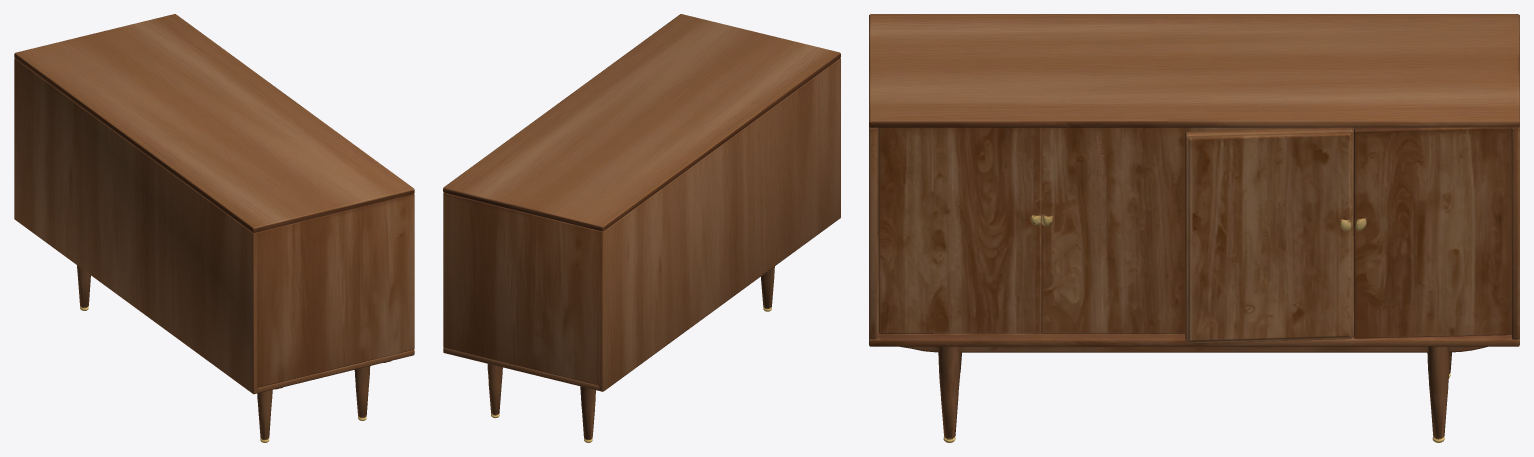
The model's file is low-cabinet.glb.
3 renders of one model, left to right at view 1: azimuth 30°, elevation 25°; view 2: azimuth 150°, elevation 25°; view 3: azimuth 270°, elevation 25°, orthographic. The views are drawn at different scales.
Visible parts, largest first — view 1: tripo_node_89f077a7-b774-41c9-9845-4adf9d643efa; view 2: tripo_node_89f077a7-b774-41c9-9845-4adf9d643efa; view 3: tripo_node_89f077a7-b774-41c9-9845-4adf9d643efa.
Part boxes in pixels (x1,y1,x2,y2): tripo_node_89f077a7-b774-41c9-9845-4adf9d643efa: (14, 14, 414, 442); tripo_node_89f077a7-b774-41c9-9845-4adf9d643efa: (443, 14, 840, 442); tripo_node_89f077a7-b774-41c9-9845-4adf9d643efa: (869, 14, 1519, 442).
Bounding box in the file's own units: 0.4077 × 0.5688 × 0.9995.
Materials: 1 (1 with a texture image).
